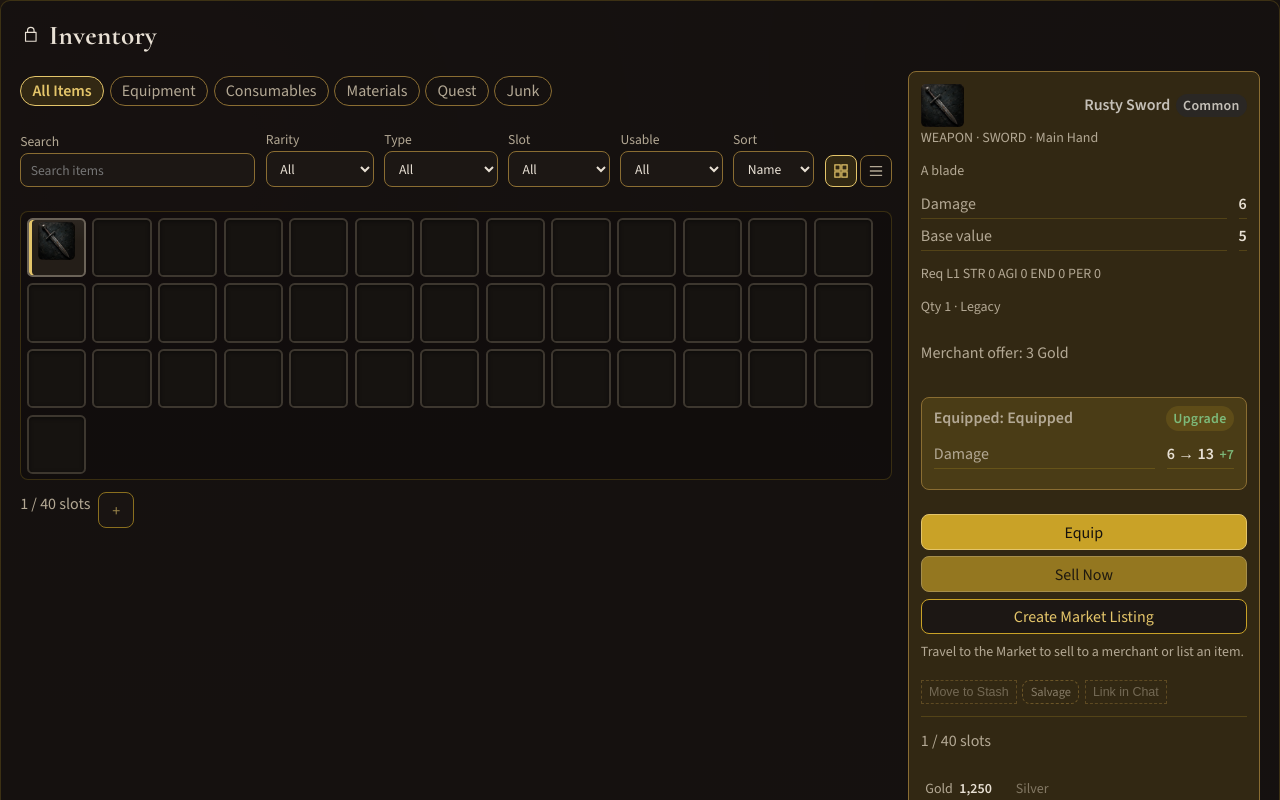
InventoryPanel › shows an empty quest tab and coming-later bag actions
Click the button "Quest".
click(457, 91)  # box [425,76,489,106]
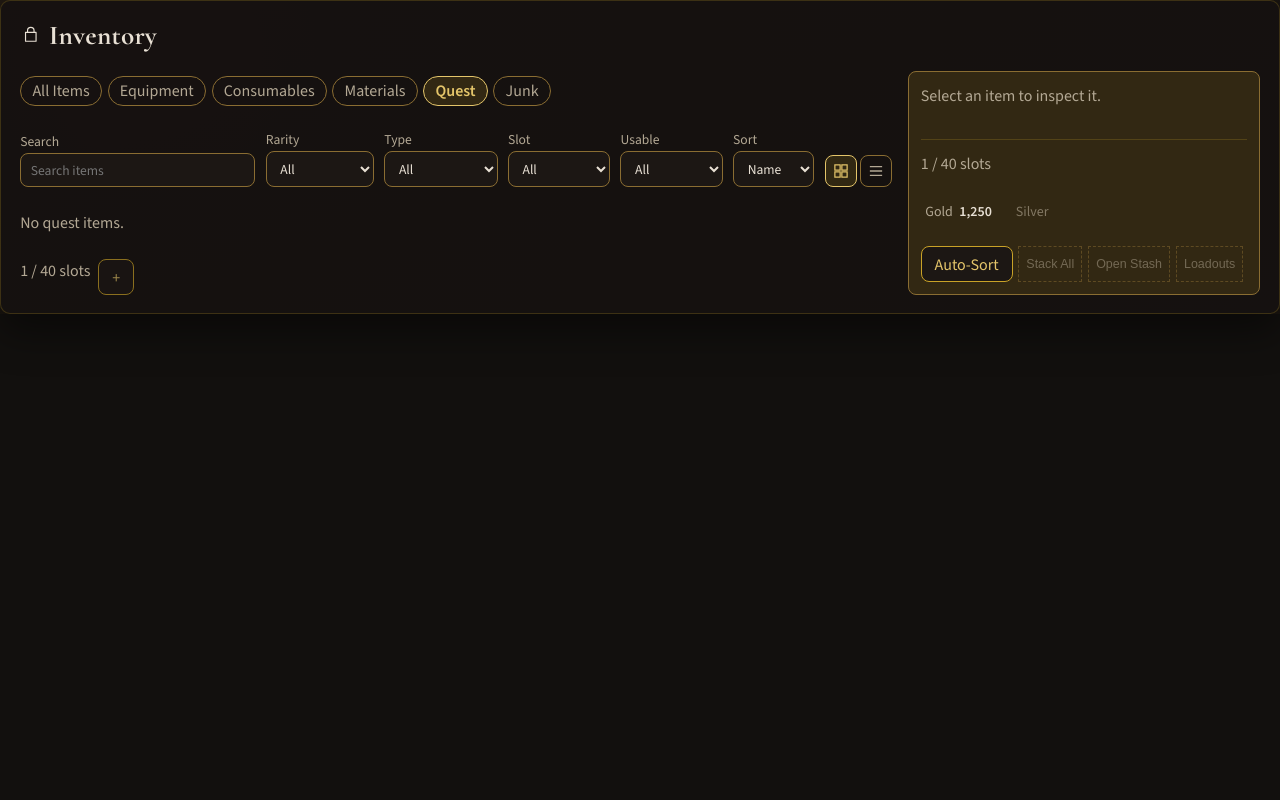
Expected: the button with test id "inventory-open-stash" is disabled, [1088,246,1170,282]
Result: the text with test id "inventory-empty" reads "No quest items." at [20,212,124,233]
